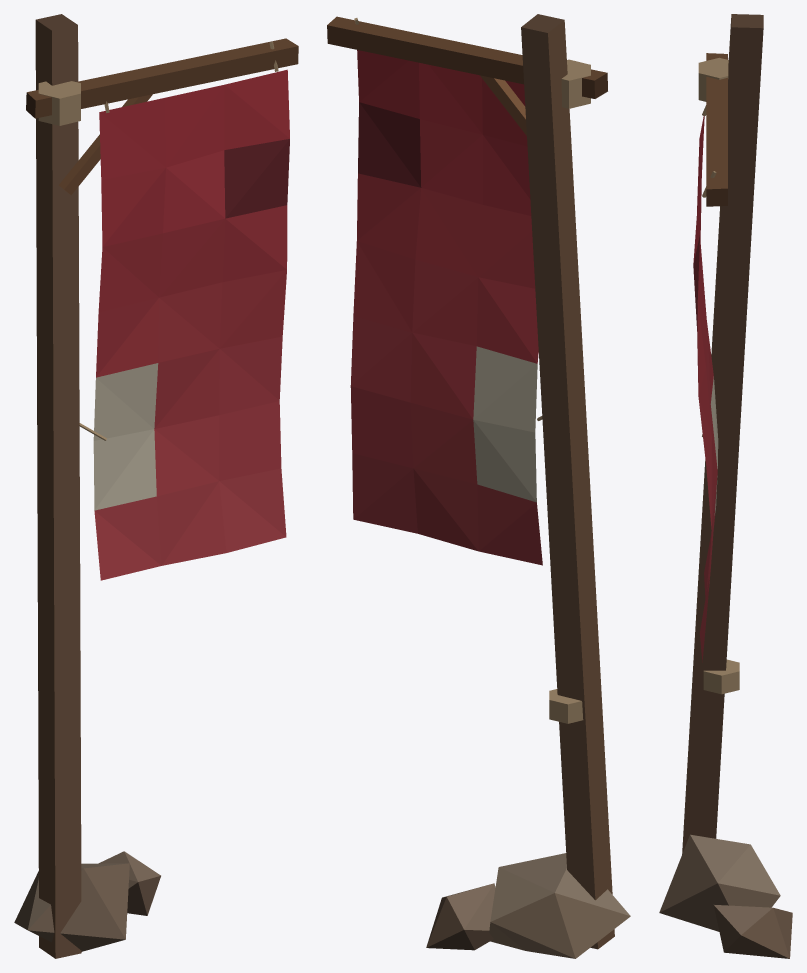
The model's file is tl_env_shrine_banner_v01.glb.
The picture shows the model from 3 angles, left to right: view 1: azimuth 30°, elevation 25°; view 2: azimuth 150°, elevation 25°; view 3: azimuth 270°, elevation 25°; orthographic projection. The views are drawn at different scales.
Parts seen in each view (by area): view 1: tl_env_shrine_banner_v01; view 2: tl_env_shrine_banner_v01; view 3: tl_env_shrine_banner_v01.
Part boxes in pixels (x1,y1,x2,y2): tl_env_shrine_banner_v01: (14, 14, 298, 958); tl_env_shrine_banner_v01: (327, 14, 630, 958); tl_env_shrine_banner_v01: (659, 14, 792, 958).
Size of the model in its own units: 1.38 by 4.3 by 0.5821.
